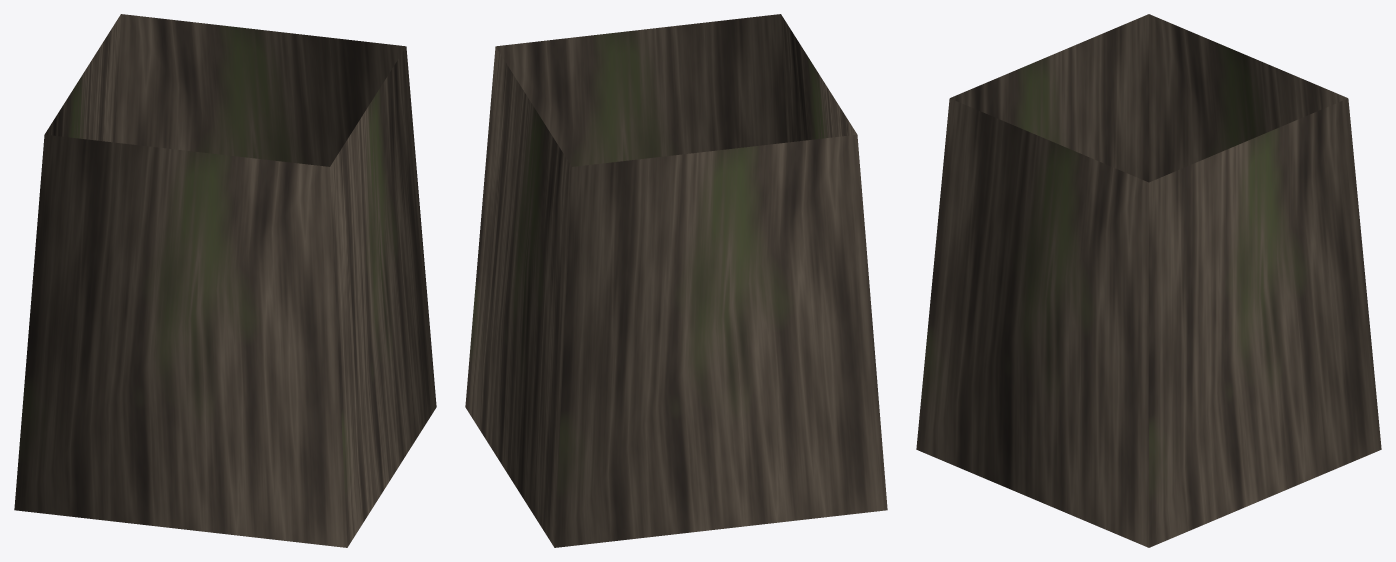
Rendered from Stump_1_LOD2.gltf.
3 renders of one model, left to right at view 1: azimuth 30°, elevation 25°; view 2: azimuth 150°, elevation 25°; view 3: azimuth 270°, elevation 25°, orthographic. The views are drawn at different scales.
Parts seen in each view (by area): view 1: Stump_1_LOD2; view 2: Stump_1_LOD2; view 3: Stump_1_LOD2.
Boxes of the visible parts, x1=… form: Stump_1_LOD2: x1=14, y1=14, x2=436, y2=547; Stump_1_LOD2: x1=465, y1=14, x2=887, y2=547; Stump_1_LOD2: x1=916, y1=14, x2=1381, y2=547.
Size of the model in its own units: 0.84 by 0.7 by 0.84.
Materials: 1 (1 with a texture image).
